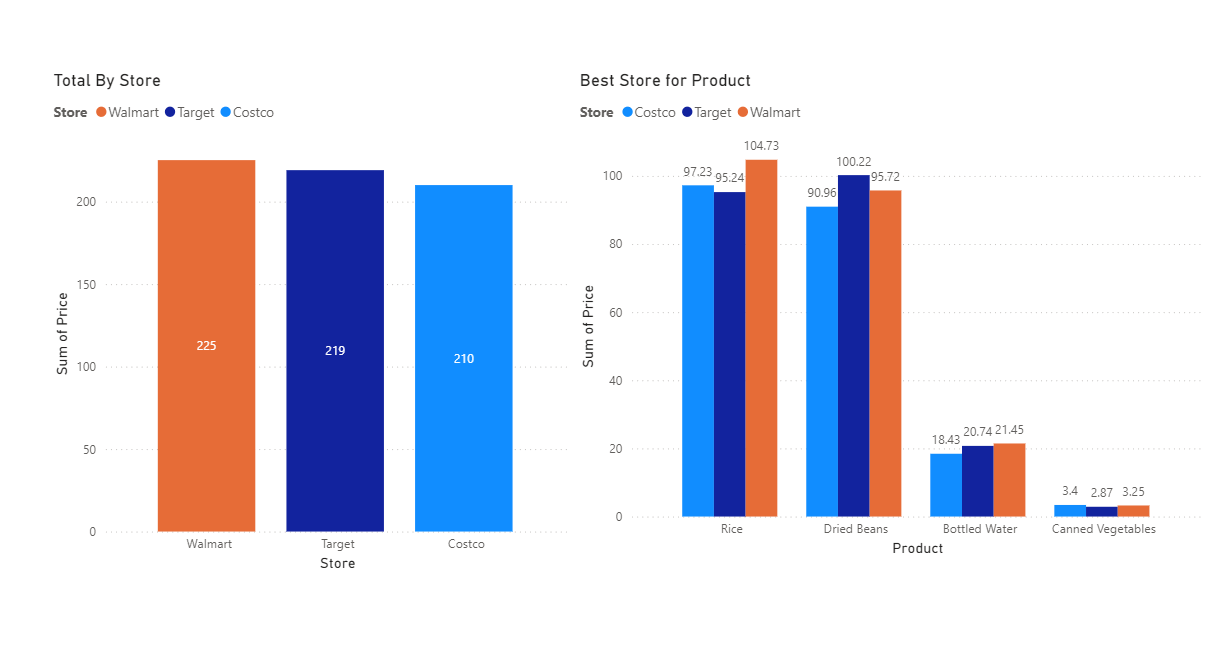

What the dashboard file says about the page in this screenshot:
{"tool":"powerbi","page":{"name":"Page 1","canvas":[1280,720],"ordinal":0},"visuals":[{"type":"columnChart","title":"Total By Store","fields":{"Category":["Sheet1.Store"],"Y":["Sum(Sheet1.Price)"],"Series":["Sheet1.Store"]},"box":[90.5,92.9,514.8,495.2],"z":0},{"type":"clusteredColumnChart","title":"Best Store for Product","fields":{"Category":["Sheet1.Product"],"Y":["Sum(Sheet1.Price)"],"Series":["Sheet1.Store"]},"box":[605.3,92.9,620,480.6],"z":1}]}

Visuals, with their boxes in screenshot pixels (x1, y1, x2, y2), scaled from the page's 1280x720 canvas onto the 1211x666 screenshot:
"Total By Store" columnChart: [left=86, top=86, right=573, bottom=544]
"Best Store for Product" clusteredColumnChart: [left=573, top=86, right=1159, bottom=530]
